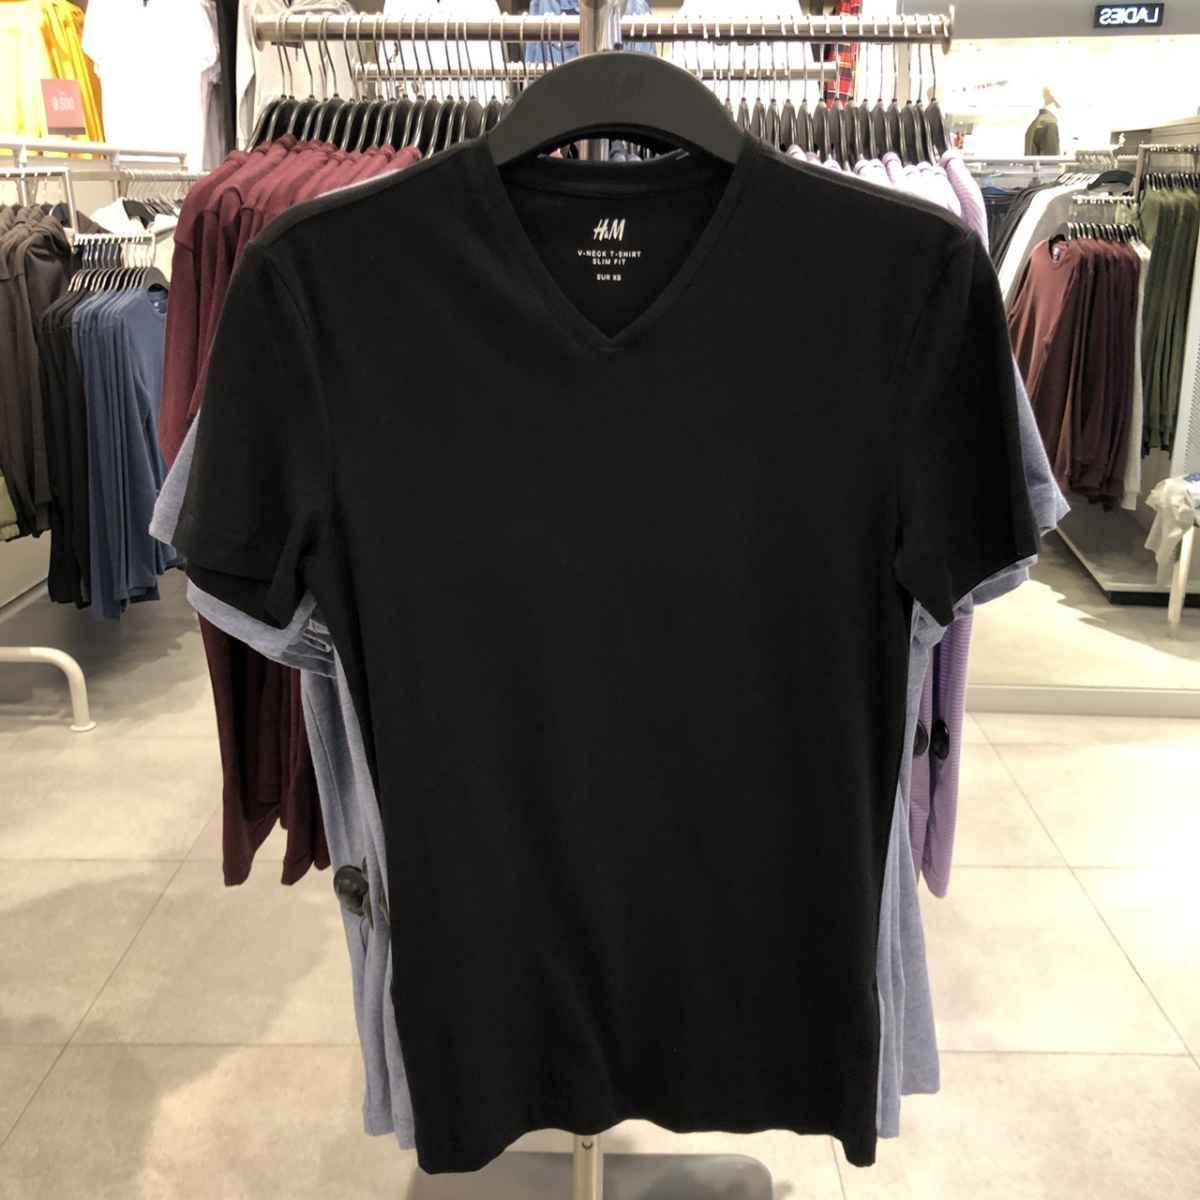Tshirt: (170, 149, 1027, 1190)
